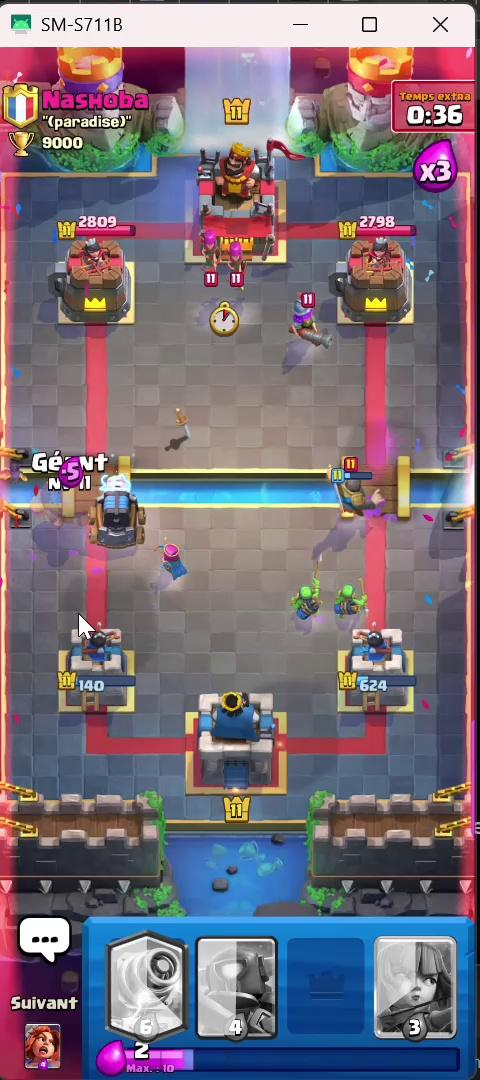archere: (155, 515, 200, 589), (185, 232, 225, 287), (221, 236, 248, 308)
chevalier: (328, 471, 385, 523)
geant: (32, 440, 98, 536)
gobelin_lances: (329, 560, 373, 626), (284, 578, 332, 626)
mousquetaire: (288, 287, 345, 372)
squelette: (331, 450, 363, 479)
zappy: (80, 453, 156, 550)
